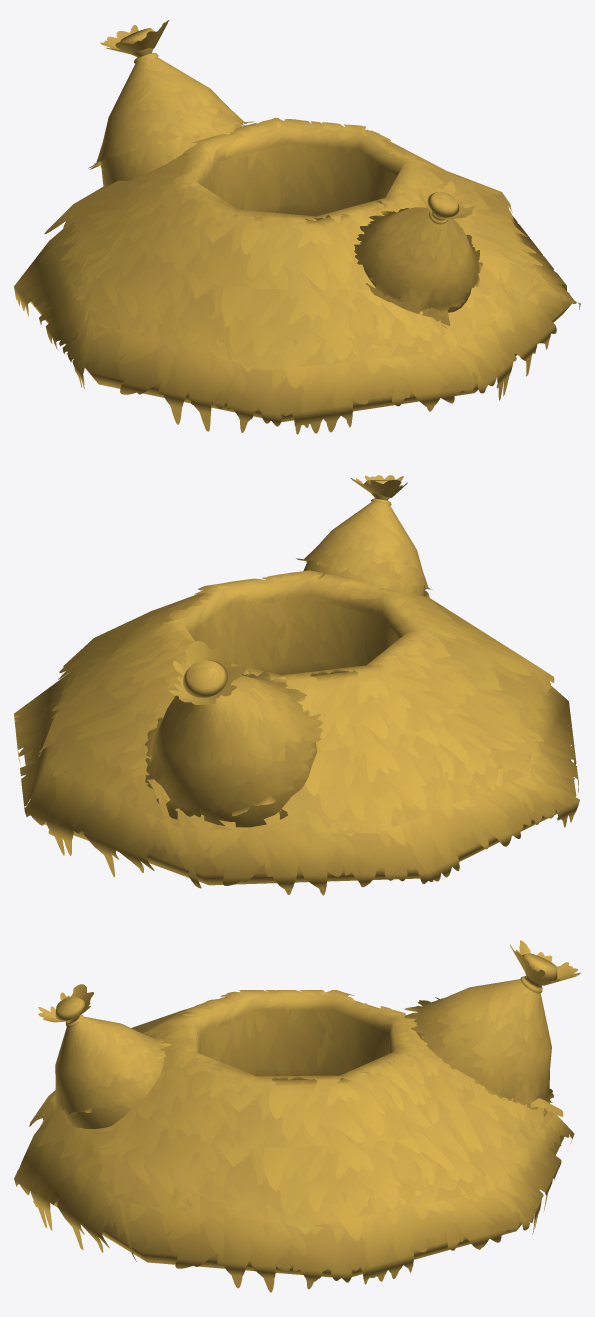
File: Cattac_Straw_LightHouse01.fbx
The picture shows the model from 3 angles, top to bottom: view 1: azimuth 30°, elevation 25°; view 2: azimuth 150°, elevation 25°; view 3: azimuth 270°, elevation 25°; orthographic projection. The views are drawn at different scales.
Parts seen in each view (by area): view 1: Cube_172; view 2: Cube_172; view 3: Cube_172.
Boxes of the visible parts, x1,y1,x2,y2 form: Cube_172: (14,20,580,434); Cube_172: (14,475,579,895); Cube_172: (14,940,580,1292).
Size of the model in its own units: 52.44 by 24.14 by 53.61.
